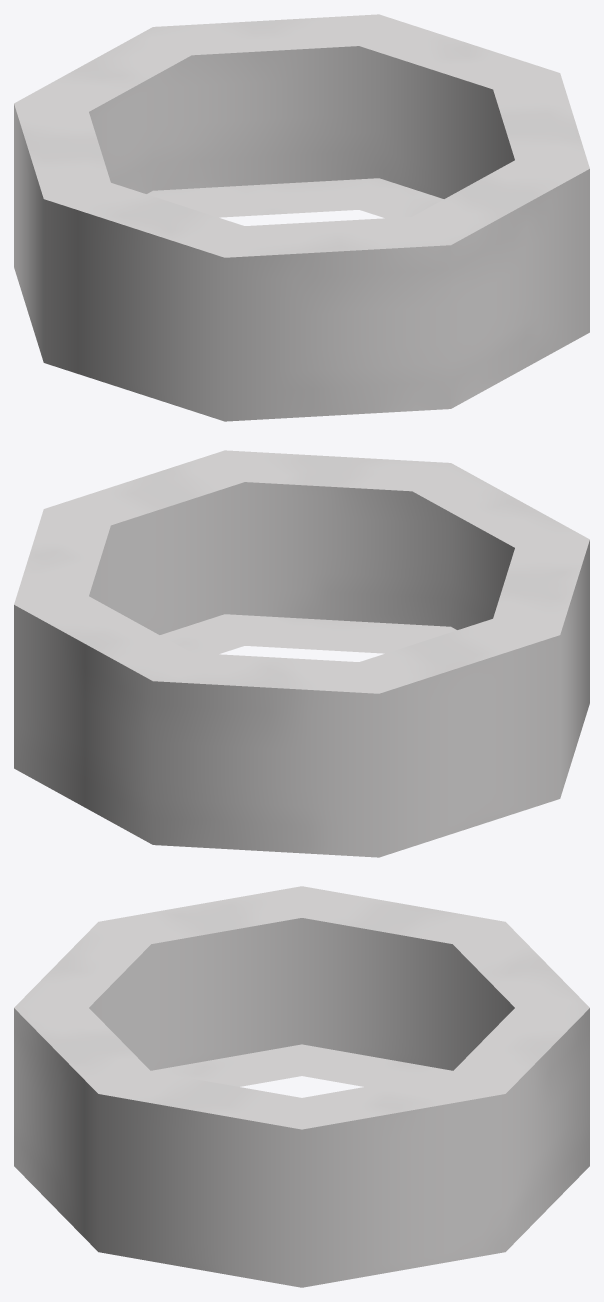
Rendered from PipeRing__2.fbx.
3 renders of one model, top to bottom at view 1: azimuth 30°, elevation 25°; view 2: azimuth 150°, elevation 25°; view 3: azimuth 270°, elevation 25°, orthographic. The views are drawn at different scales.
Parts seen in each view (by area): view 1: Mat_Pipe_01 2; view 2: Mat_Pipe_01 2; view 3: Mat_Pipe_01 2.
Boxes of the visible parts, x1,y1,x2,y2 form: Mat_Pipe_01 2: (14,14,589,421); Mat_Pipe_01 2: (14,450,589,857); Mat_Pipe_01 2: (14,886,589,1287).
Size of the model in its own units: 0.3771 by 0.1143 by 0.3771.
Materials: 1 (1 with a texture image).
